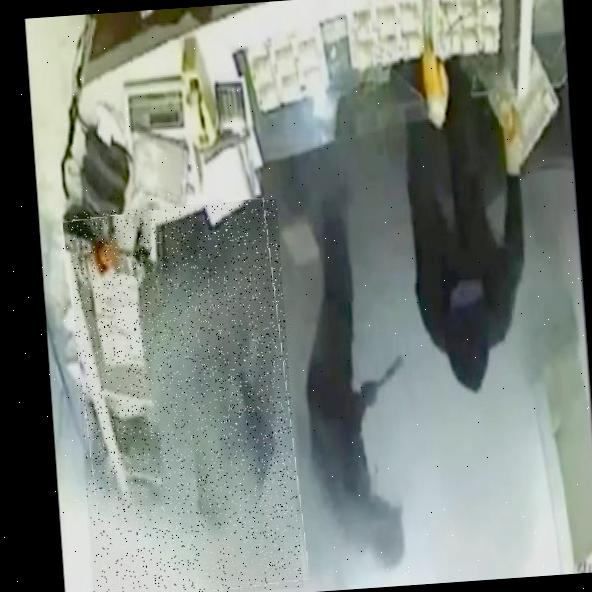smoke: (66, 198, 303, 592)
